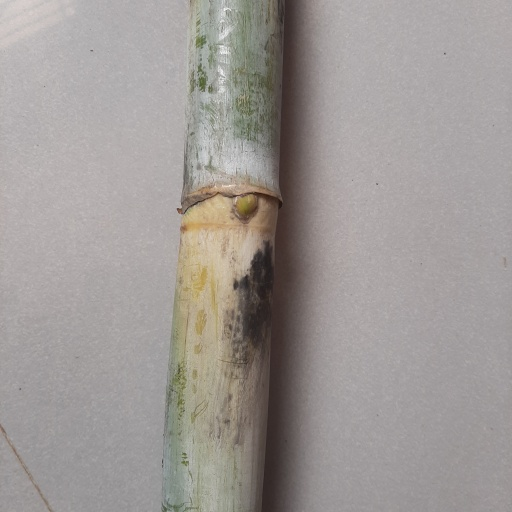Bud: (231, 192, 260, 225)
